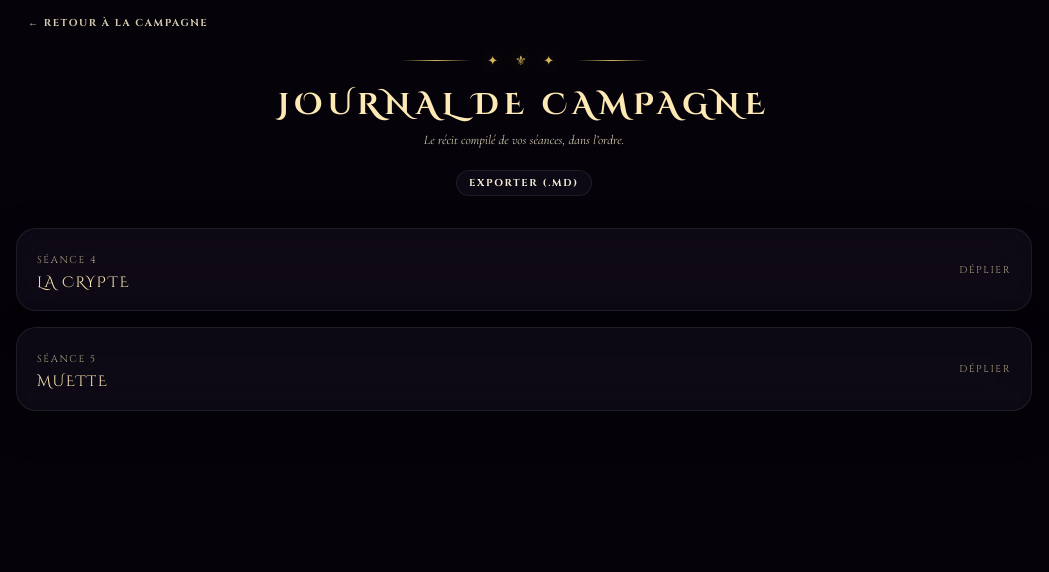
Test: CampaignJournalScreen › « Exporter cette séance » n’apparaît qu’au dépliage, et pas sans journal
Expected: the button "Exporter cette séance" is not shown
Séance sans journal dépliée → toujours pas d'export (rien à exporter).
Click the button "Séance 5 Muette Déplier" at (63, 359), box top-left (17, 328), bottom-right (1031, 410)
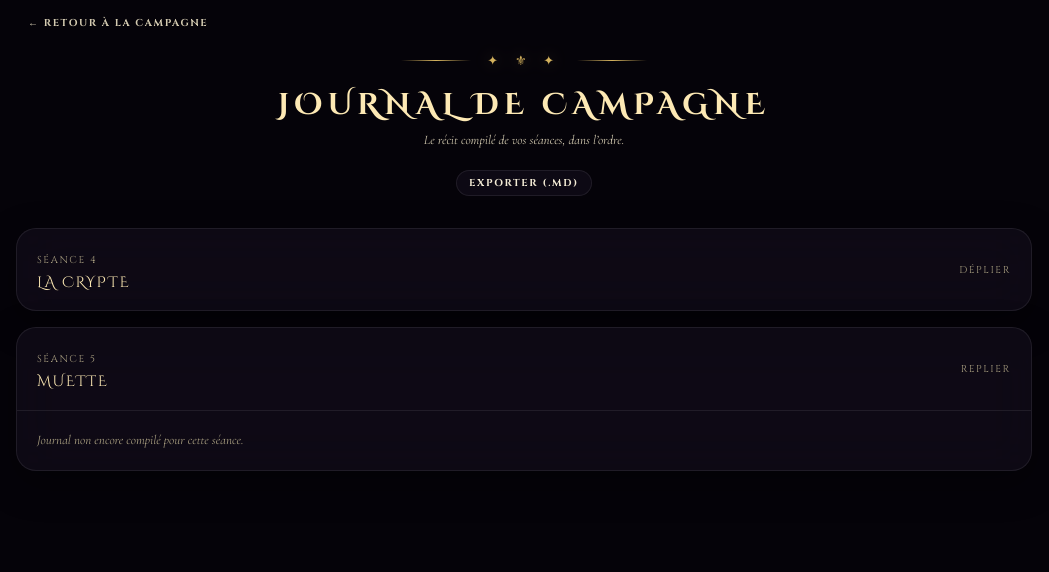
Expected: the button "Exporter cette séance" is not shown
Click the button "Séance 4 La crypte Déplier" at (63, 260), box top-left (17, 229), bottom-right (1031, 310)
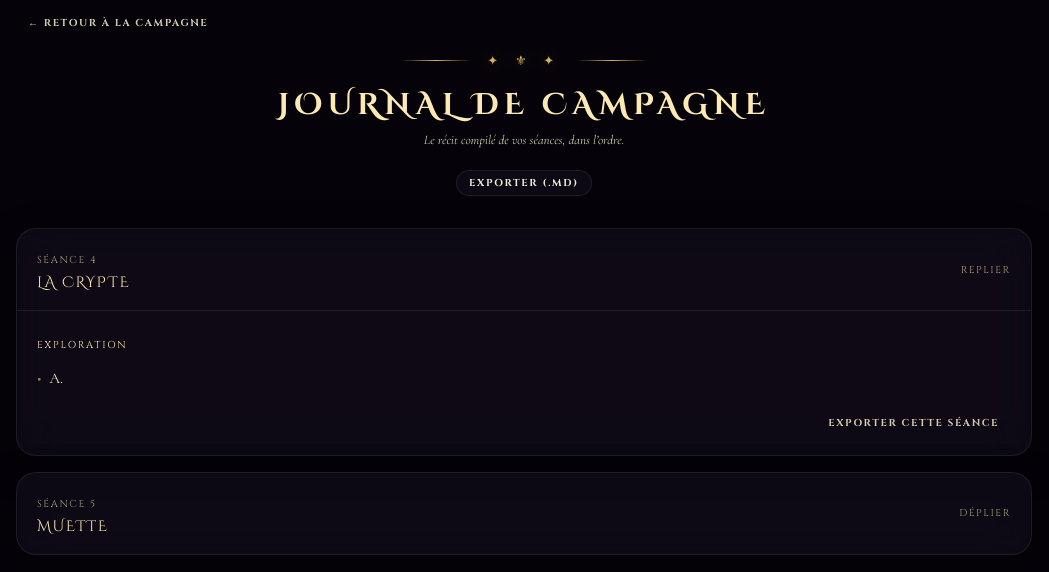
Result: the button "Exporter cette séance" is shown at top-left (816, 410), bottom-right (1011, 434)
